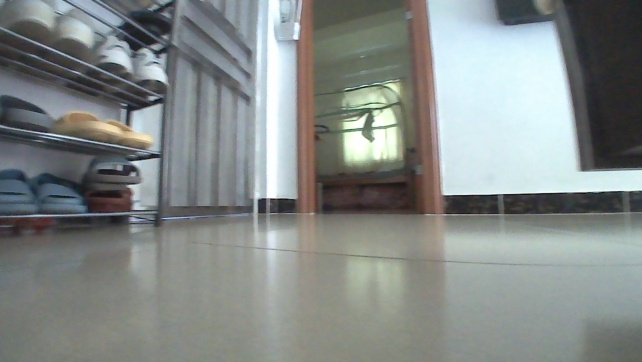door_anno: (150, 0, 264, 219)
